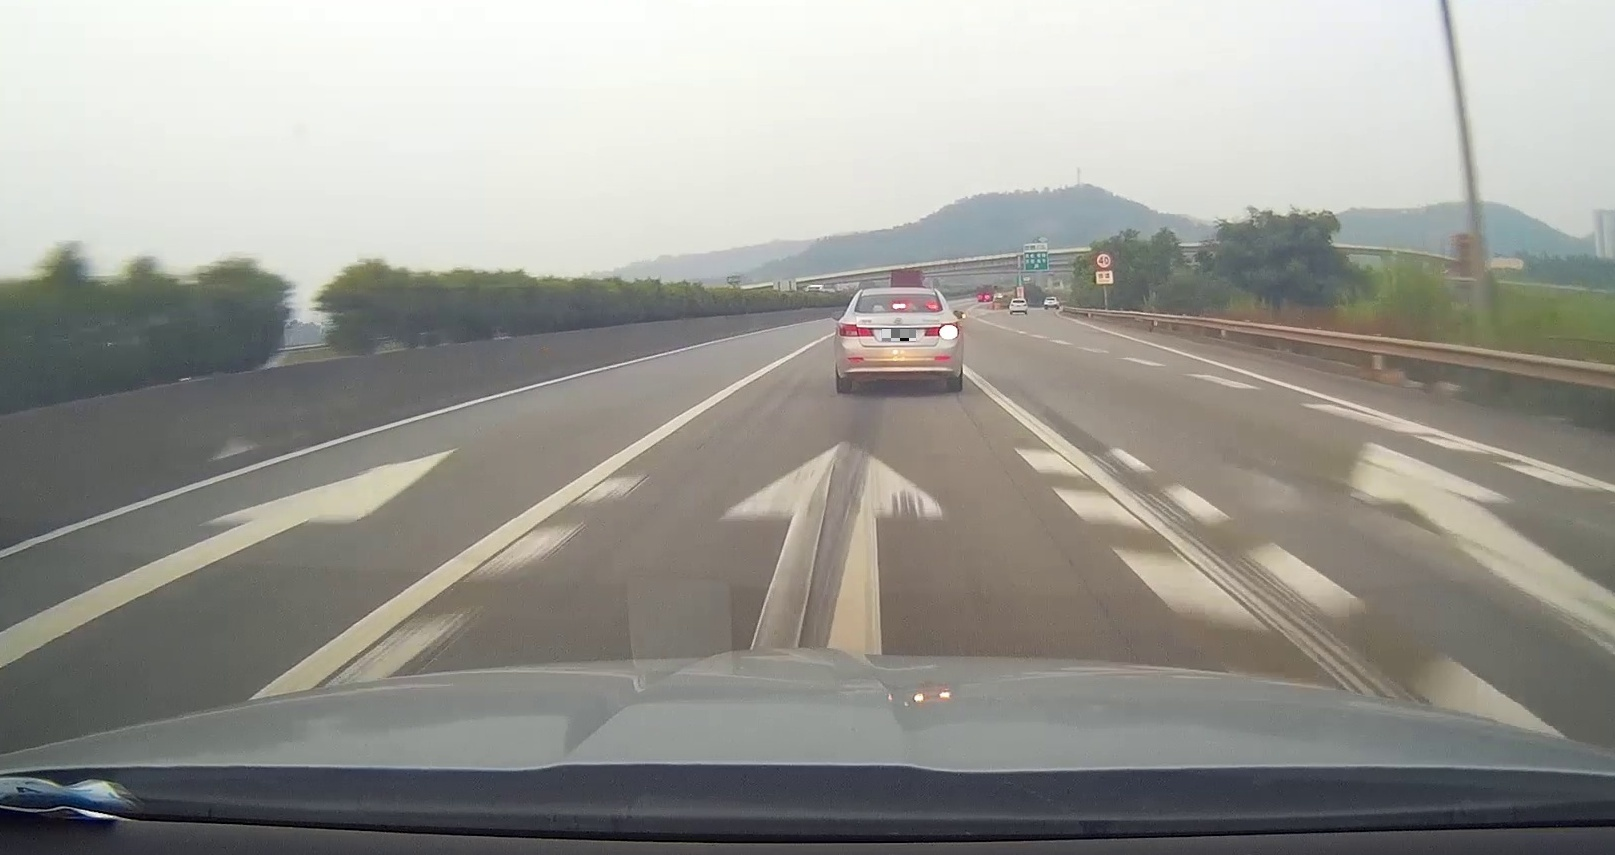L_light: (838, 322, 873, 337)
R_light: (924, 323, 960, 337)
T_light: (892, 304, 905, 309)
day-right: (834, 287, 961, 394)
plate_1: (882, 329, 916, 341)
